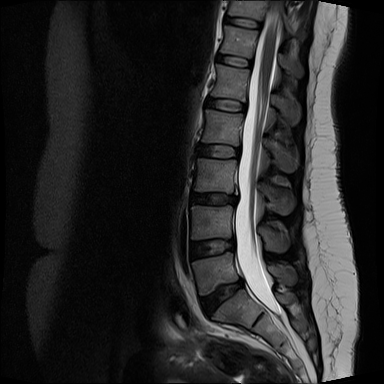Lumbar Disc Bulge (LDB): (195, 273, 248, 322), (181, 185, 244, 210)
Normal IVD: (184, 229, 238, 265), (187, 135, 247, 164), (193, 91, 251, 118), (208, 49, 257, 72), (219, 13, 266, 33)
Spinal Stenosis (SS): (224, 184, 248, 212), (235, 267, 251, 298)
